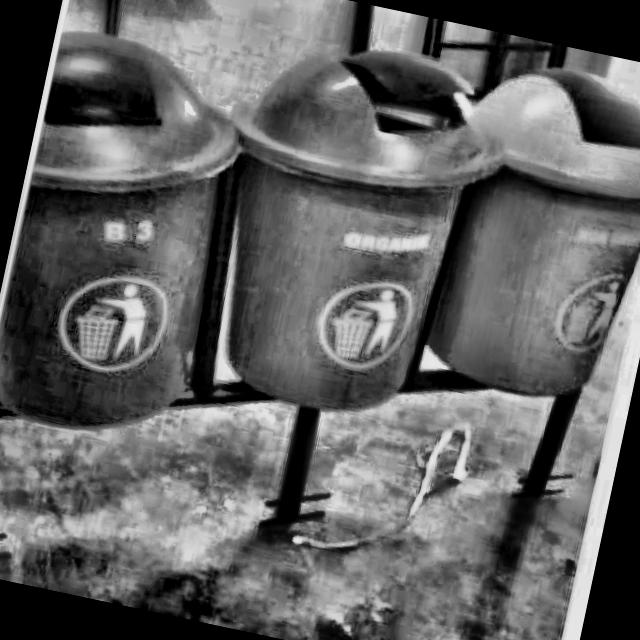Dustbin: (172, 14, 520, 477), (0, 11, 258, 478), (414, 44, 640, 425)
